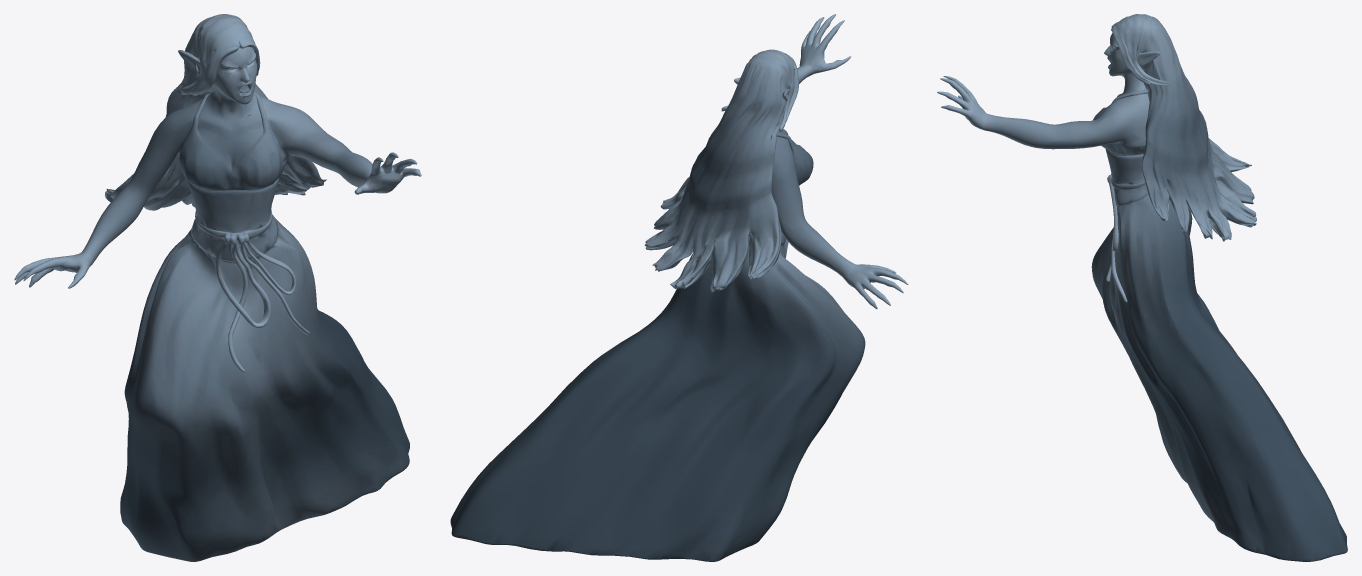
The model's file is MZ4250 - Banshee 2.glb.
The picture shows the model from 3 angles, left to right: view 1: azimuth 30°, elevation 25°; view 2: azimuth 150°, elevation 25°; view 3: azimuth 270°, elevation 25°; orthographic projection. The views are drawn at different scales.
Parts seen in each view (by area): view 1: gpbanshee02; view 2: gpbanshee02; view 3: gpbanshee02.
Boxes of the visible parts, <box> form: gpbanshee02: <box>14,14,421,561</box>; gpbanshee02: <box>450,14,908,561</box>; gpbanshee02: <box>937,14,1347,561</box>.
Bounding box in the file's own units: 0.8935 × 1.02 × 0.867.
Materials: 1 (1 with a texture image).
